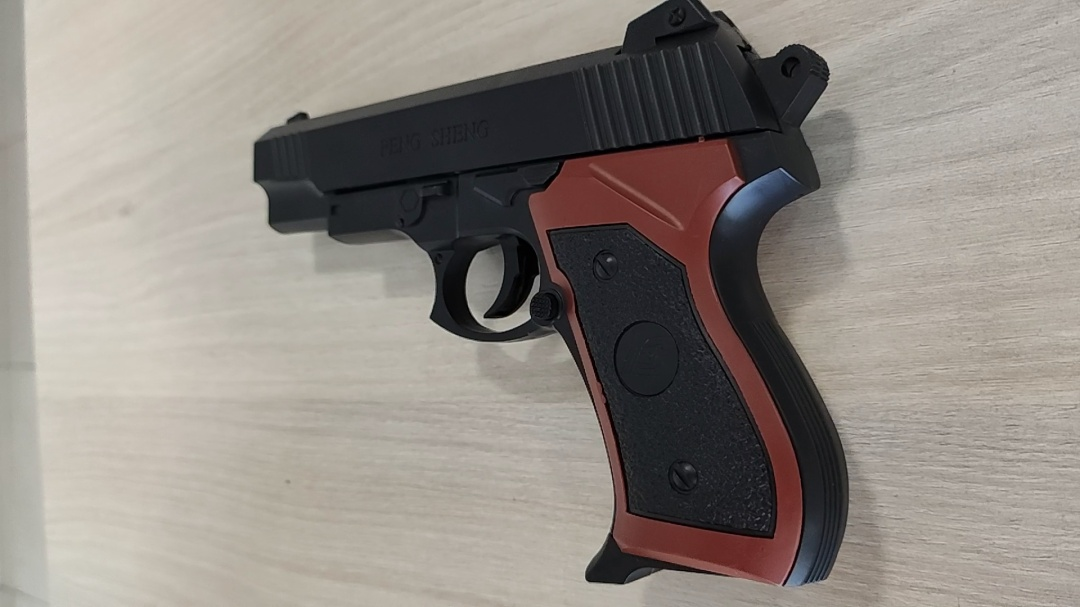gun: (253, 3, 848, 591)
